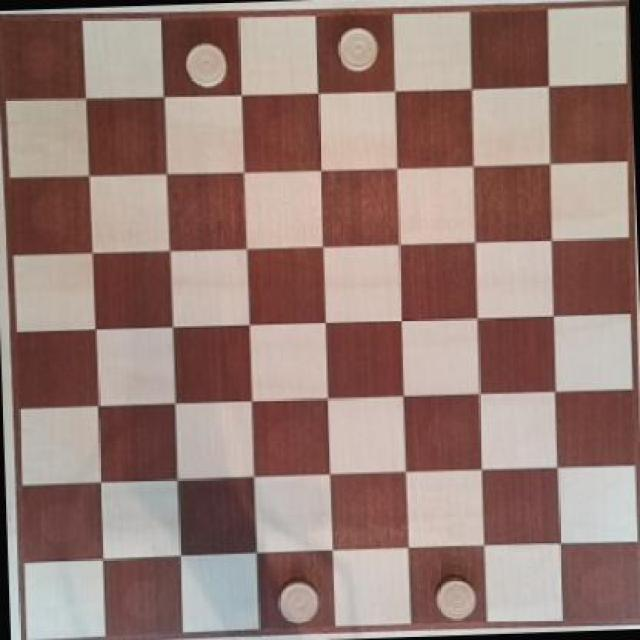BOARD: (2, 2, 630, 640)
white: (424, 565, 482, 621), (271, 568, 324, 628), (182, 35, 230, 95), (327, 22, 383, 73)
